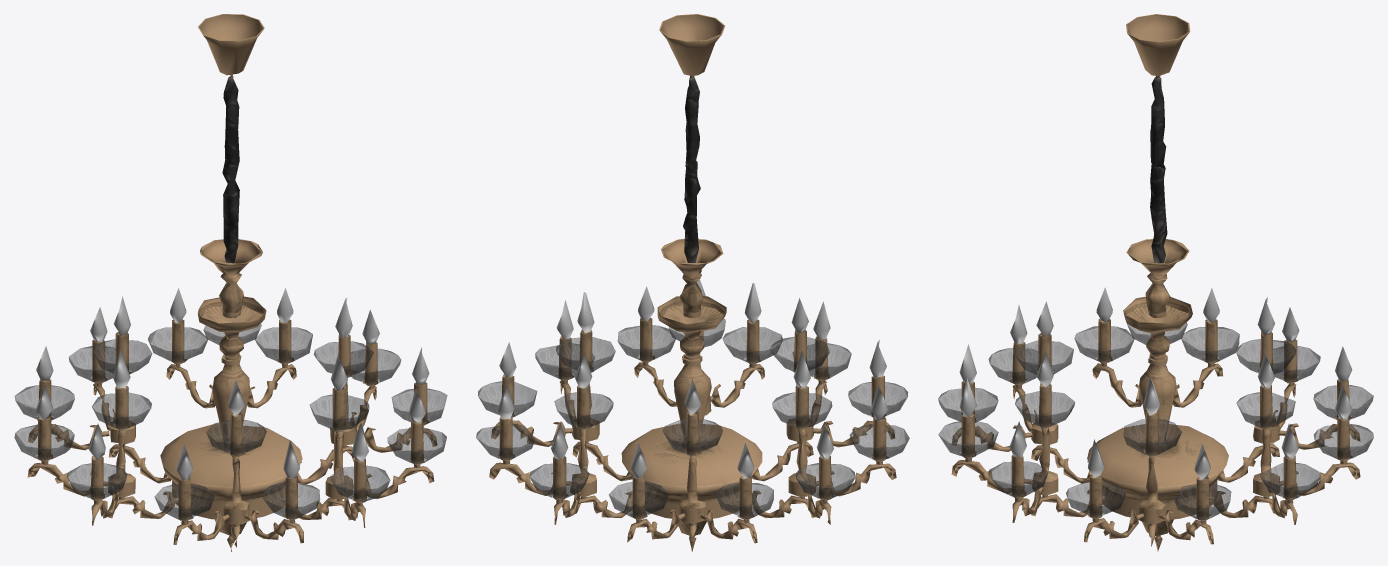
Rendered from Chandelier_03.glb.
3 renders of one model, left to right at view 1: azimuth 30°, elevation 25°; view 2: azimuth 150°, elevation 25°; view 3: azimuth 270°, elevation 25°, orthographic.
Parts seen in each view (by area): view 1: Chandelier_03; view 2: Chandelier_03; view 3: Chandelier_03.
Part boxes in pixels (box(x1,y1,x2,y2)): Chandelier_03: box(14, 14, 447, 551); Chandelier_03: box(476, 14, 909, 551); Chandelier_03: box(938, 14, 1373, 551).
Bounding box in the file's own units: 0.7804 × 1.04 × 0.7853.
Materials: 2 (2 with a texture image).
